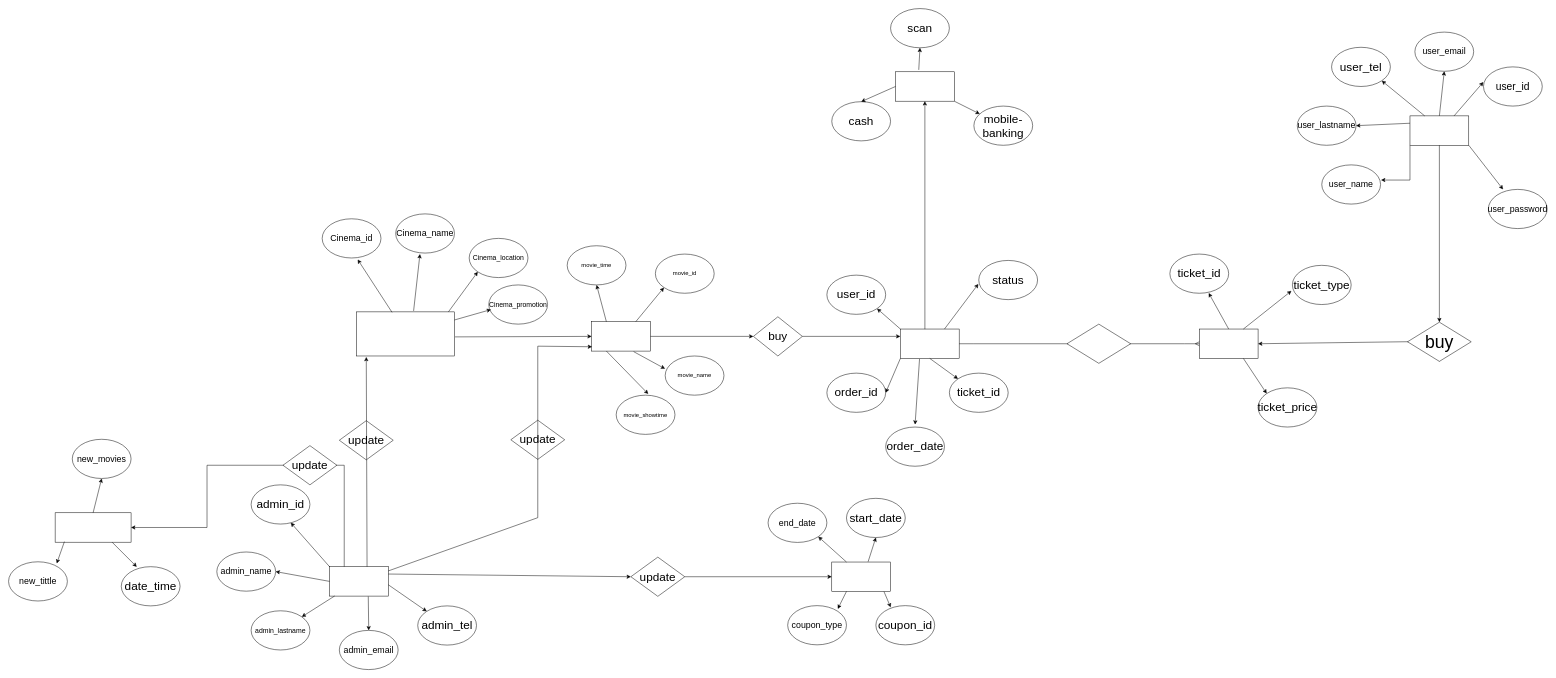
This 1556x678 diagram has some shape labels left out. Each missing label, with the centre of its shape:
admin: the point at 358,581
Cinema: the point at 405,333
discount: the point at 861,576
has: the point at 1098,343
movie: the point at 620,336
movie_trailer: the point at 93,527
order: the point at 929,343
payment: the point at 924,86
ticket: the point at 1228,343
User: the point at 1439,130
